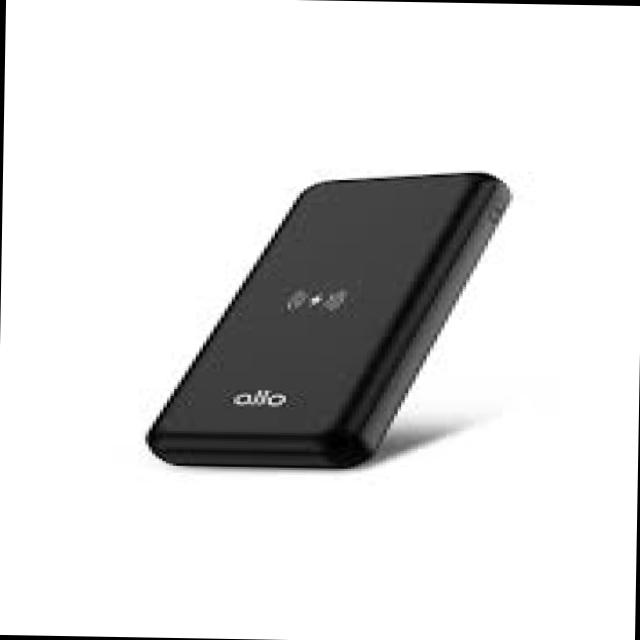portable-charger: (129, 163, 516, 482)
